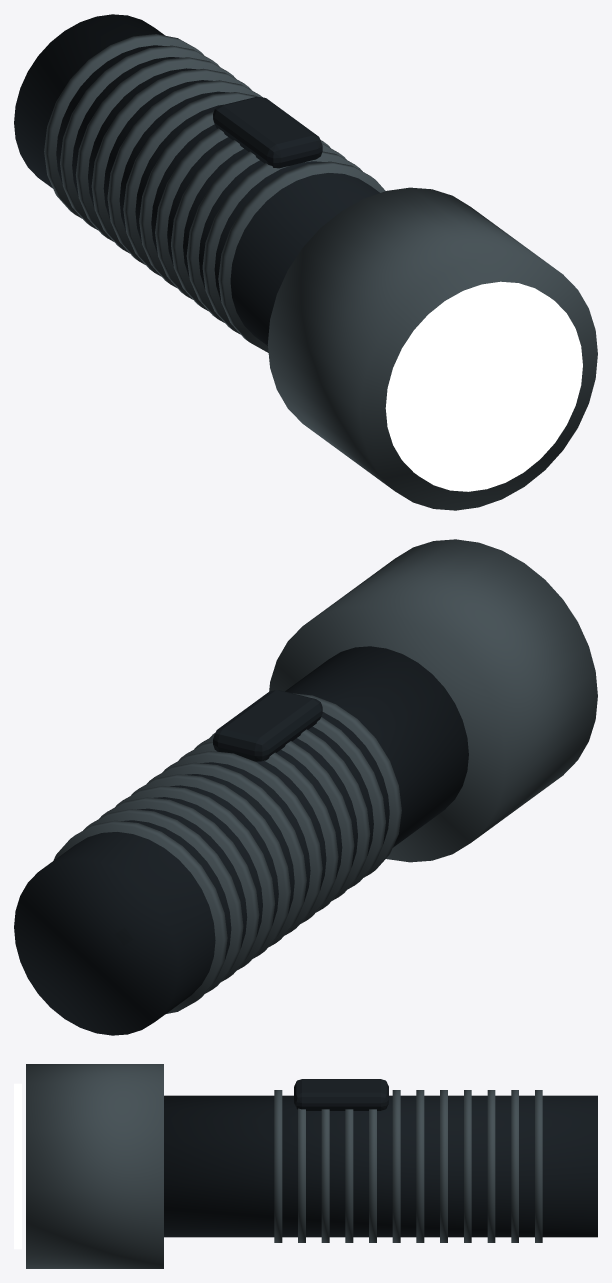
The model's file is PROP_Flashlight.glb.
The picture shows the model from 3 angles, top to bottom: view 1: azimuth 30°, elevation 25°; view 2: azimuth 150°, elevation 25°; view 3: azimuth 270°, elevation 25°; orthographic projection. The views are drawn at different scales.
Visible parts, largest first — view 1: PROP_Flashlight; view 2: PROP_Flashlight; view 3: PROP_Flashlight.
Boxes of the visible parts, box(x1,y1,x2,y2) form: PROP_Flashlight: box(14, 14, 597, 510); PROP_Flashlight: box(14, 539, 597, 1035); PROP_Flashlight: box(14, 1064, 597, 1268).
Size of the model in its own units: 0.052 by 0.052 by 0.148.
Materials: 2 (1 with a texture image).
